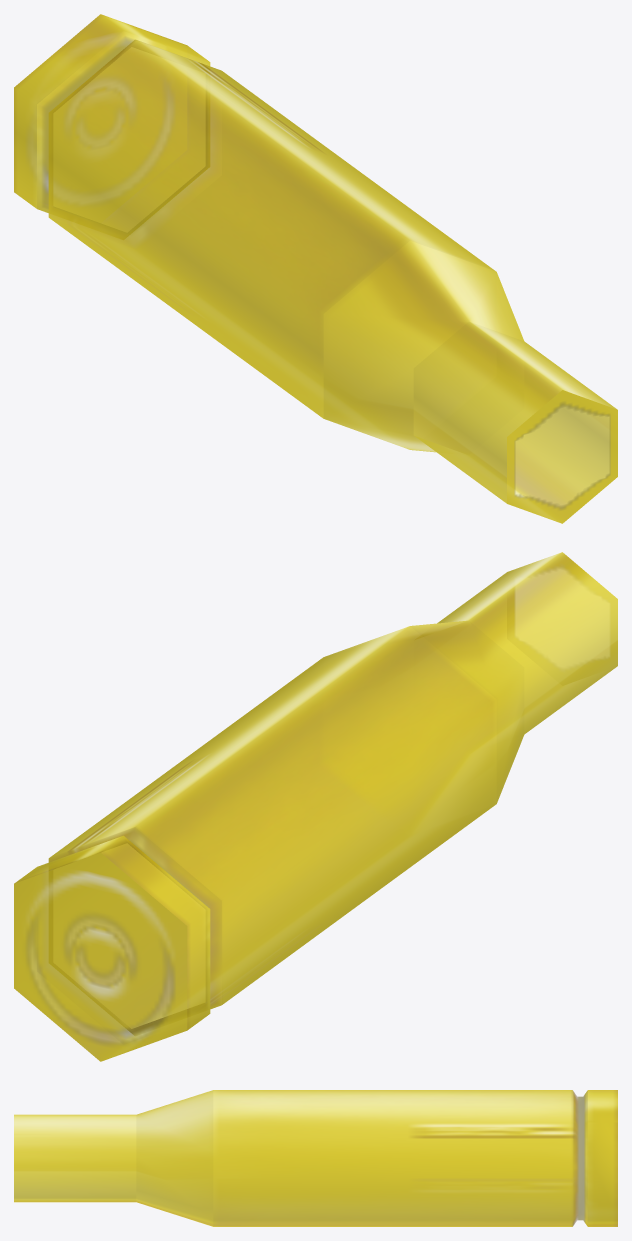
3 views of the same model, one above another, from view 1: azimuth 30°, elevation 25°; view 2: azimuth 150°, elevation 25°; view 3: azimuth 270°, elevation 25° (orthographic). The views are drawn at different scales.
Visible parts, largest first — view 1: layer_00_oe0912U; view 2: layer_00_oe0912U; view 3: layer_00_oe0912U.
Part boxes in pixels (x1,y1,x2,y2): layer_00_oe0912U: (14,14,617,523); layer_00_oe0912U: (14,552,617,1061); layer_00_oe0912U: (14,1090,617,1226).
Bounding box in the file's own units: 0.866 × 1 × 4.
1 material, 1 textured.
